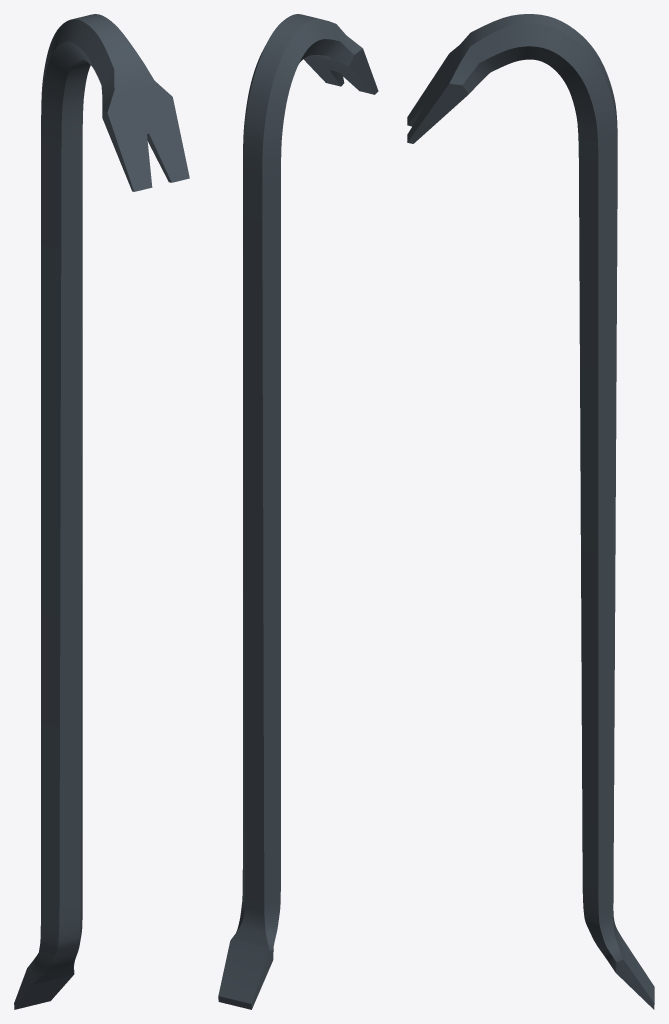
Rendered from Crowbar.fbx.
3 views of the same model, side by side, from view 1: azimuth 30°, elevation 25°; view 2: azimuth 150°, elevation 25°; view 3: azimuth 270°, elevation 25° (orthographic). The views are drawn at different scales.
Visible parts, largest first — view 1: crowbar; view 2: crowbar; view 3: crowbar.
Boxes of the visible parts, bbox=[...] form: crowbar: bbox=[14, 14, 189, 1009]; crowbar: bbox=[218, 14, 378, 1009]; crowbar: bbox=[407, 14, 654, 1009].
Bounding box in the file's own units: 10.7 × 161 × 36.79.
